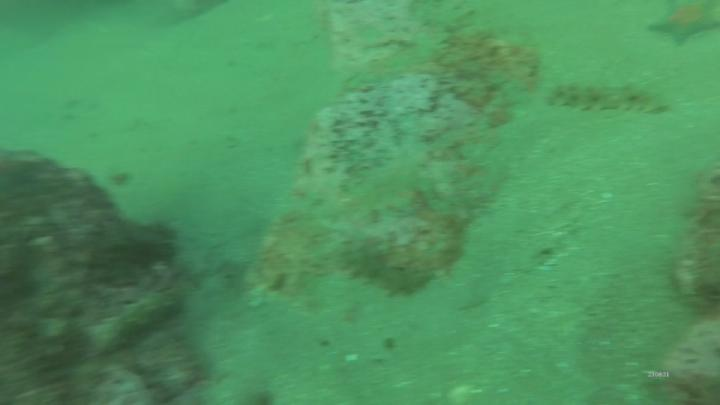holothurian: (87, 293, 180, 357), (338, 249, 440, 302), (547, 83, 667, 118)
starfish: (648, 1, 720, 46)
